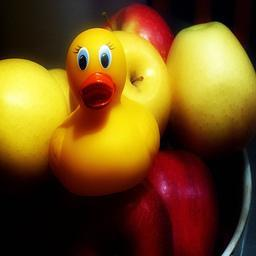apple: (163, 20, 253, 159), (1, 58, 68, 183), (137, 154, 218, 255), (111, 31, 175, 134), (106, 4, 175, 63)
